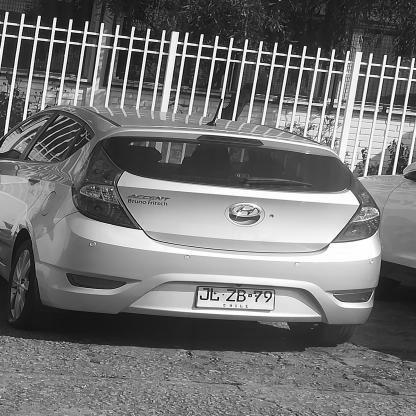Patente: (190, 281, 281, 316)
